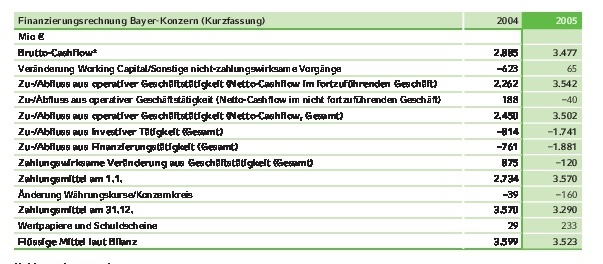table: (0, 0, 603, 264)
